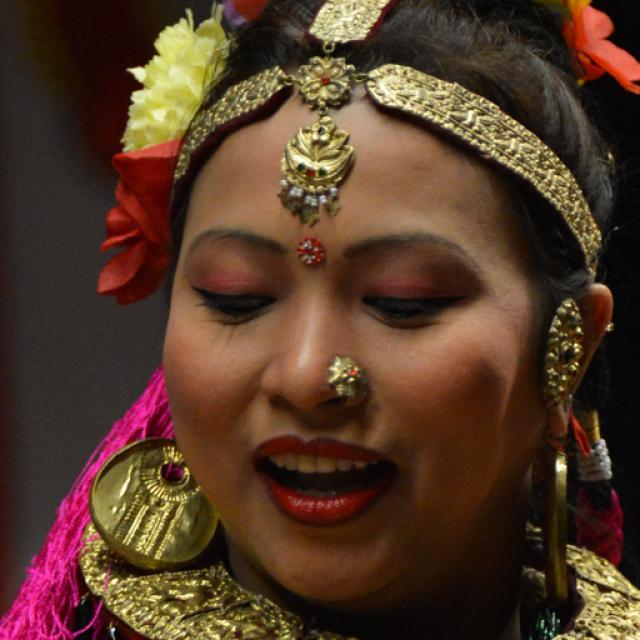surprise: (160, 101, 542, 605)
